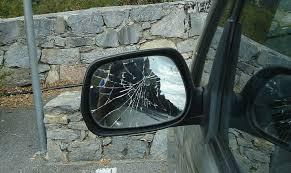Sidemirror-Damage: (74, 44, 198, 139)
